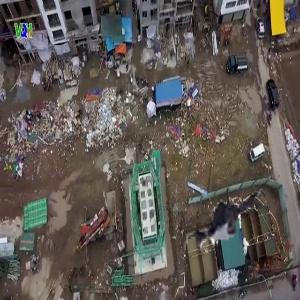drone: (179, 172, 273, 266)
